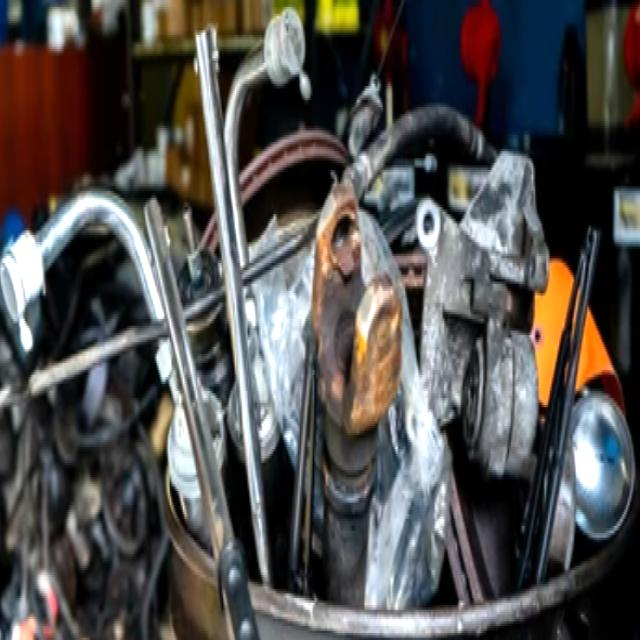Garbage: (0, 67, 640, 640)
Metal: (568, 390, 638, 552)
